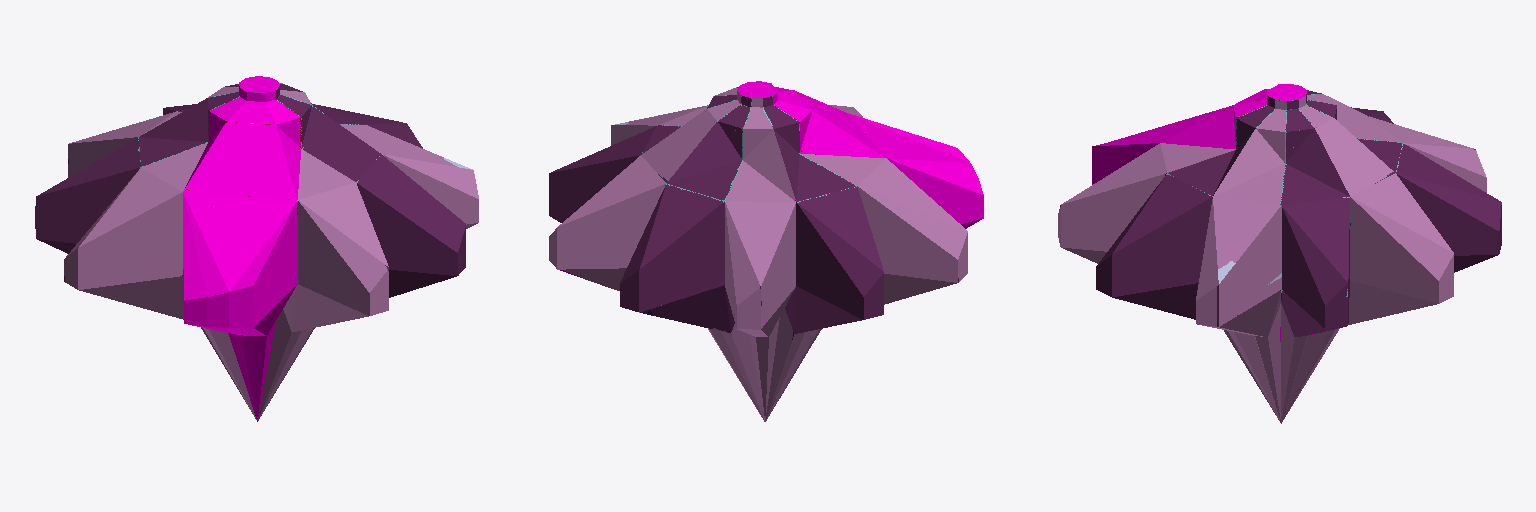
The picture shows the model from 3 angles: view 1: azimuth 30°, elevation 25°; view 2: azimuth 150°, elevation 25°; view 3: azimuth 270°, elevation 25°; orthographic projection.
Visible parts, largest first — view 1: 円錐; view 2: 円錐; view 3: 円錐.
Part boxes in pixels (x1,y1,x2,y2): 円錐: (35, 76, 478, 421); 円錐: (549, 81, 983, 421); 円錐: (1058, 84, 1501, 423).
Bounding box in the file's own units: 9.87 × 8.25 × 9.93.
Materials: 1 (1 with a texture image).